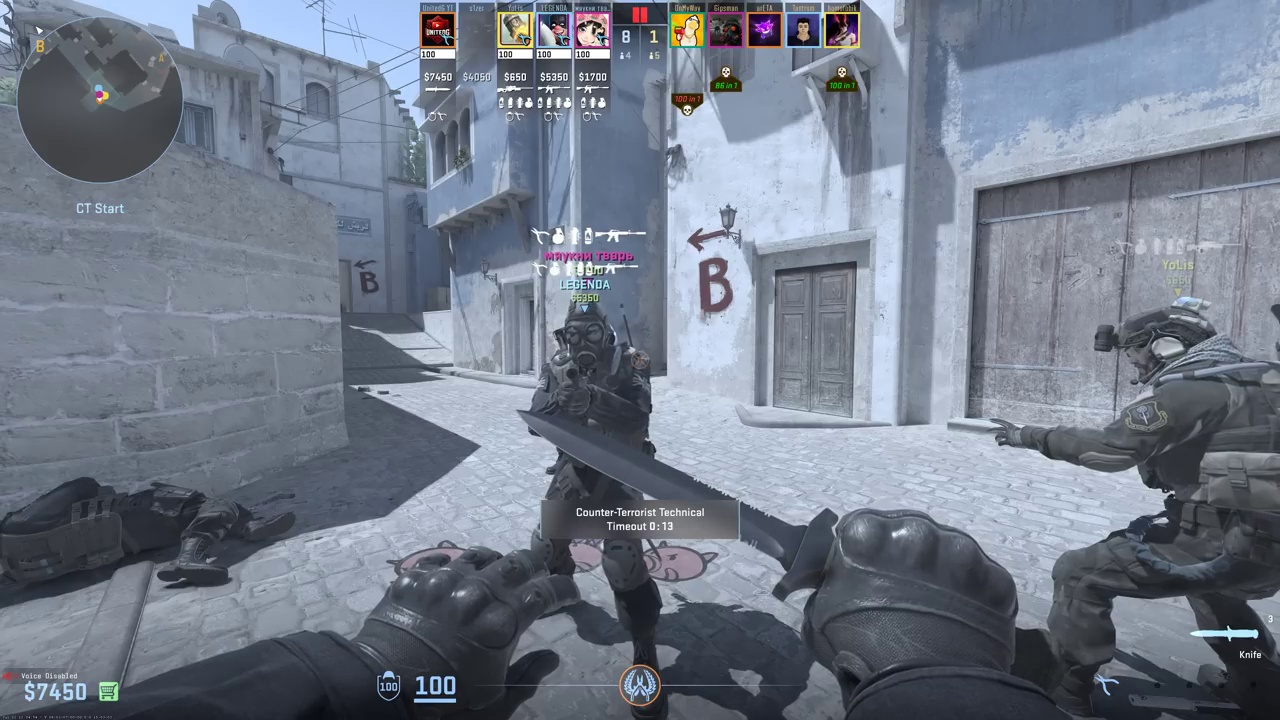CT: (1055, 306, 1280, 708), (530, 295, 670, 665)
